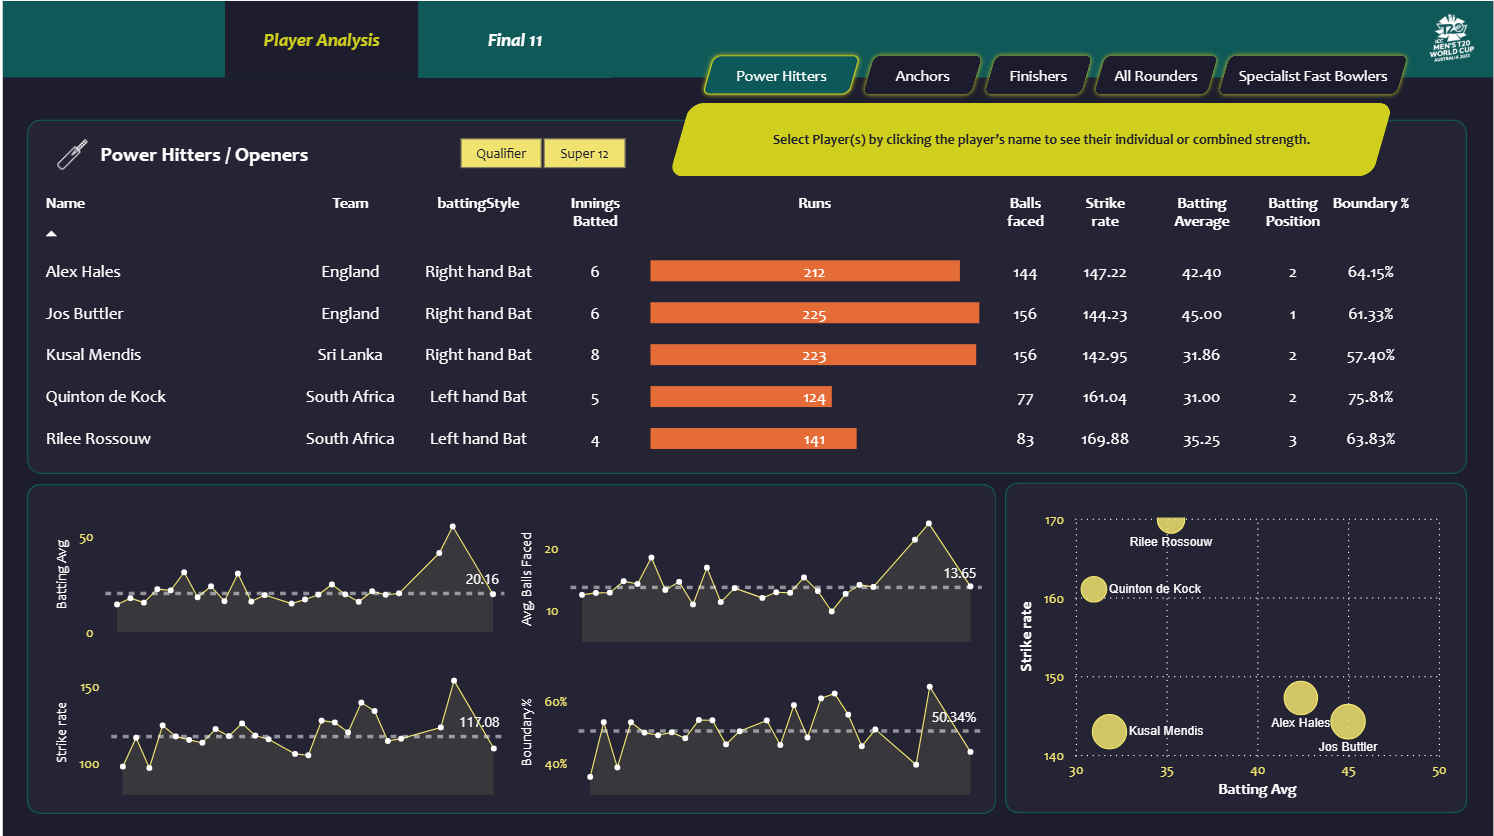

The dashboard page shown, as its layout file describes it:
{"tool":"powerbi","page":{"name":"New Anchors / Middle Order","canvas":[1280,720],"ordinal":1},"visuals":[{"type":"shape","box":[0,66,1280,654],"z":0},{"type":"card","fields":{"Values":["Key_Measures.Strike rate"]},"box":[866.4,88.6,93,60],"z":0,"group":"g2"},{"type":"group","id":"g1","title":"Group 2","box":[83.8,116.2,260,31.2],"z":0,"group":"g3"},{"type":"shape","box":[83.8,116.2,260,31.2],"z":0,"group":"g1"},{"type":"card","fields":{"Values":["Key_Measures.Bat Avg"]},"box":[767.4,88.6,92,60],"z":1000,"group":"g2"},{"type":"image","box":[38,114,44,36],"z":1000,"group":"g3"},{"type":"shape","box":[20,414.4,832.2,283.3],"z":1000},{"type":"actionButton","box":[734,42.6,111,42],"z":2000},{"type":"card","fields":{"Values":["Key_Measures.Avergate Balls Faced"]},"box":[1063,90.3,110,56.7],"z":2000,"group":"g2"},{"type":"actionButton","box":[596,42.6,144,42],"z":3000},{"type":"card","fields":{"Values":["Key_Measures.Boundary %"]},"box":[965.4,88.6,101,60],"z":3000,"group":"g2"},{"type":"actionButton","box":[838,42.6,101,42],"z":4000},{"type":"actionButton","box":[932,42.6,115,42],"z":5000},{"type":"actionButton","box":[1039,42.6,171,42],"z":6000},{"type":"image","box":[1220,3,48,59],"z":7000},{"type":"areaChart","fields":{"Category":["dim_match_summary.Match_Date.Variation.Date Hierarchy.Day"],"Y":["Key_Measures.Boundary %"]},"box":[446,430,406,126],"z":9000},{"type":"shape","box":[860,414,397,284],"z":10000},{"type":"areaChart","fields":{"Category":["dim_match_summary.Match_Date.Variation.Date Hierarchy.Day"],"Y":["Key_Measures.Avergate Balls Faced"]},"box":[446,556,406,126],"z":11000},{"type":"areaChart","fields":{"Category":["dim_match_summary.Match_Date.Variation.Date Hierarchy.Day"],"Y":["Key_Measures.Bat Avg"]},"box":[40,428.9,395.6,126.7],"z":12000},{"type":"areaChart","fields":{"Category":["dim_match_summary.Match_Date.Variation.Date Hierarchy.Day"],"Y":["Key_Measures.Strike rate"]},"box":[40,555.6,396.7,125.6],"z":13000},{"type":"shape","box":[20,102.2,1236.7,304.4],"z":14000},{"type":"slicer","fields":{"Values":["dim_match_summary.stage"]},"box":[366.7,111.1,191.1,38.9],"z":15000},{"type":"shape","box":[572,88,622,63],"z":16000},{"type":"shape","box":[590.4,101.6,173,34],"z":17000},{"type":"group","id":"g2","title":"Combined Perfoamce Metrices","box":[767.4,88.6,405.6,60],"z":18000},{"type":"group","id":"g3","title":"Group 1","box":[38,114,305.8,36],"z":19000},{"type":"tableEx","fields":{"Values":["dim_player.name","dim_player.team","dim_player.Batting Style","Key_Measures.Total Matches","Key_Measures.Total Runs","Key_Measures.total balls faced","Key_Measures.Strike rate","Key_Measures.Bat Avg","Key_Measures.Batting Position","Key_Measures.Boundary %"]},"box":[26,151,1231,255],"z":20000},{"type":"scatterChart","fields":{"Y":["Key_Measures.Strike rate"],"Category":["dim_player.name"],"X":["Key_Measures.Bat Avg"],"Size":["Key_Measures.Total Runs"]},"box":[874,427,370,254],"z":21000},{"type":"actionButton","title":"Button Player Ana selected","box":[357,0,166,66],"z":22000},{"type":"actionButton","title":"Button Player Ana selected","box":[191,0,166,66],"z":23000},{"type":"shape","box":[608.6,100.9,560.6,36.3],"z":23501}]}

Visuals, with their boxes in screenshot pixels (x1, y1, x2, y2), scaled from the page's 1280x720 canvas onto the 1494x836 screenshot:
shape: region(0, 77, 1493, 835)
card - Key_Measures.Strike rate: region(1011, 103, 1120, 173)
"Group 2" group: region(98, 135, 401, 171)
shape: region(98, 135, 401, 171)
card - Key_Measures.Bat Avg: region(896, 103, 1003, 173)
image: region(44, 132, 96, 174)
shape: region(23, 481, 995, 810)
actionButton: region(857, 49, 986, 98)
card - Key_Measures.Avergate Balls Faced: region(1241, 105, 1369, 171)
actionButton: region(696, 49, 864, 98)
card - Key_Measures.Boundary %: region(1127, 103, 1245, 173)
actionButton: region(978, 49, 1096, 98)
actionButton: region(1088, 49, 1222, 98)
actionButton: region(1213, 49, 1412, 98)
image: region(1424, 3, 1480, 72)
areaChart - dim_match_summary.Match_Date.Variation.Date Hierarchy.Day x Key_Measures.Boundary %: region(521, 499, 994, 646)
shape: region(1004, 481, 1467, 810)
areaChart - dim_match_summary.Match_Date.Variation.Date Hierarchy.Day x Key_Measures.Avergate Balls Faced: region(521, 646, 994, 792)
areaChart - dim_match_summary.Match_Date.Variation.Date Hierarchy.Day x Key_Measures.Bat Avg: region(47, 498, 508, 645)
areaChart - dim_match_summary.Match_Date.Variation.Date Hierarchy.Day x Key_Measures.Strike rate: region(47, 645, 510, 791)
shape: region(23, 119, 1467, 472)
slicer - dim_match_summary.stage: region(428, 129, 651, 174)
shape: region(668, 102, 1394, 175)
shape: region(689, 118, 891, 157)
"Combined Perfoamce Metrices" group: region(896, 103, 1369, 173)
"Group 1" group: region(44, 132, 401, 174)
tableEx - dim_player.name x dim_player.team: region(30, 175, 1467, 471)
scatterChart - Key_Measures.Strike rate x dim_player.name: region(1020, 496, 1452, 791)
"Button Player Ana selected" actionButton: region(417, 0, 610, 77)
"Button Player Ana selected" actionButton: region(223, 0, 417, 77)
shape: region(710, 117, 1365, 159)
